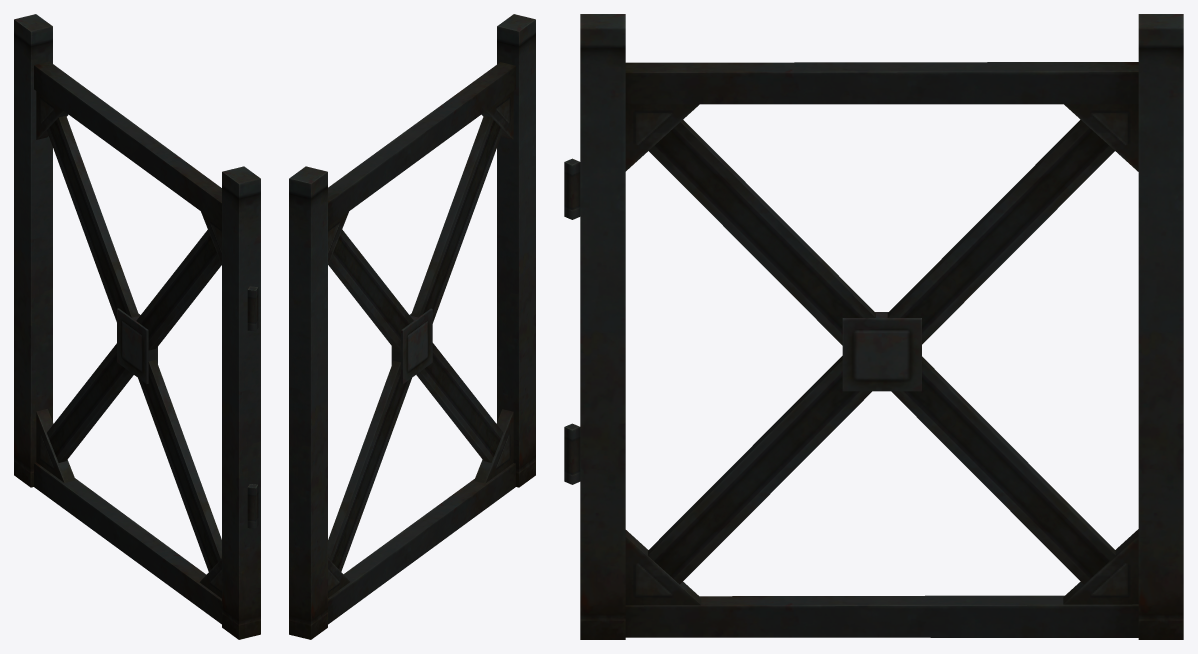
The model's file is Stage-gongchang-kaimen.FBX.
3 renders of one model, left to right at view 1: azimuth 30°, elevation 25°; view 2: azimuth 150°, elevation 25°; view 3: azimuth 270°, elevation 25°, orthographic. The views are drawn at different scales.
Parts seen in each view (by area): view 1: Object158; view 2: Object158; view 3: Object158.
Part boxes in pixels (x1,y1,x2,y2): Object158: (14, 14, 260, 639); Object158: (289, 14, 535, 639); Object158: (564, 14, 1183, 639).
Bounding box in the file's own units: 0.3141 × 5.7 × 6.21.
